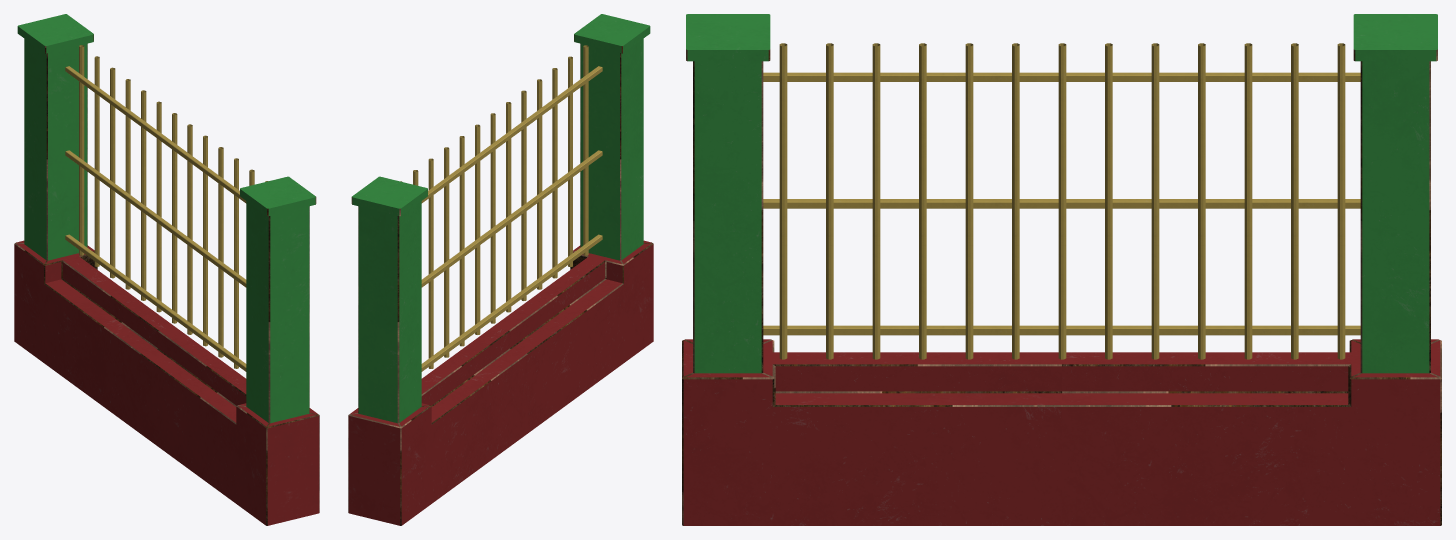
Rendered from Wall.fbx.
3 views of the same model, side by side, from view 1: azimuth 30°, elevation 25°; view 2: azimuth 150°, elevation 25°; view 3: azimuth 270°, elevation 25° (orthographic). The views are drawn at different scales.
Visible parts, largest first — view 1: Wall; view 2: Wall; view 3: Wall.
Boxes of the visible parts, x1=… form: Wall: x1=14, y1=14, x2=319, y2=525; Wall: x1=348, y1=14, x2=653, y2=525; Wall: x1=682, y1=14, x2=1441, y2=525.
Size of the model in its own units: 46.43 by 262 by 380.
